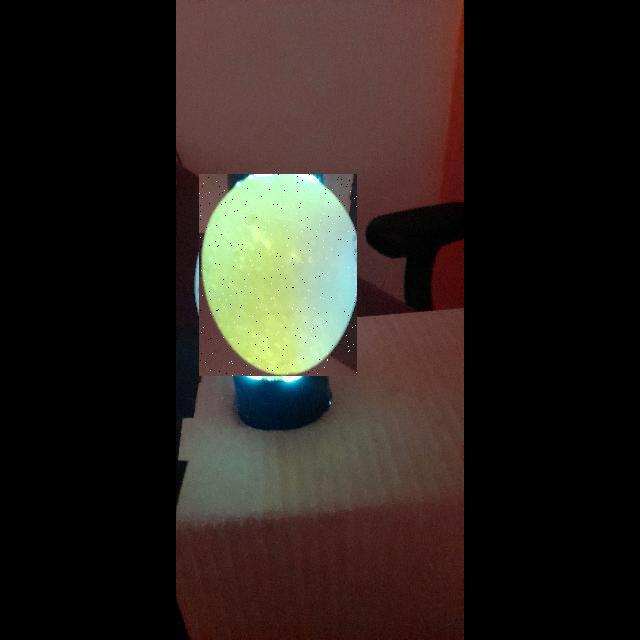AA - Premium: (199, 174, 357, 376)
